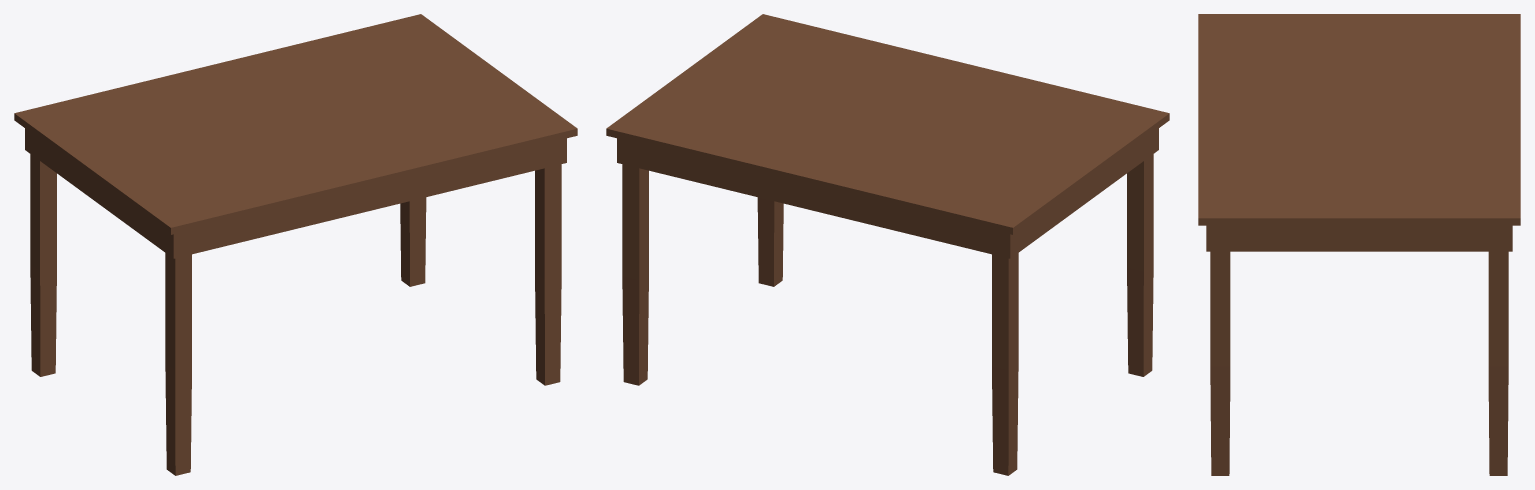
File: table.glb
The picture shows the model from 3 angles, left to right: view 1: azimuth 30°, elevation 25°; view 2: azimuth 150°, elevation 25°; view 3: azimuth 270°, elevation 25°; orthographic projection. The views are drawn at different scales.
Parts seen in each view (by area): view 1: Table; view 2: Table; view 3: Table.
Boxes of the visible parts, x1,y1,x2,y2 form: Table: (14, 14, 577, 475); Table: (606, 14, 1169, 475); Table: (1198, 14, 1520, 475).
Size of the model in its own units: 1.2 by 0.72 by 0.8.
